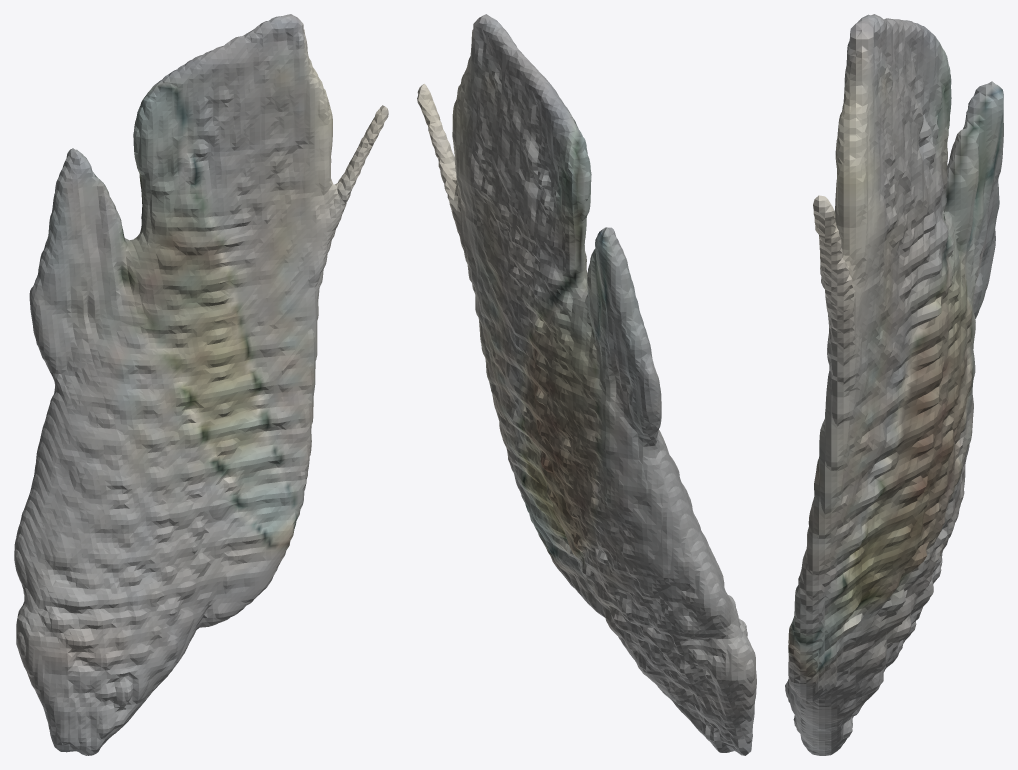
File: apistogramma-agassizii.glb
The picture shows the model from 3 angles, left to right: view 1: azimuth 30°, elevation 25°; view 2: azimuth 150°, elevation 25°; view 3: azimuth 270°, elevation 25°; orthographic projection. The views are drawn at different scales.
Visible parts, largest first — view 1: world; view 2: world; view 3: world.
Boxes of the visible parts, box(x1,y1,x2,y2) form: world: box(14, 14, 388, 755); world: box(417, 14, 756, 755); world: box(785, 14, 1003, 755).
Bounding box in the file's own units: 0.57 × 1.06 × 0.2414.
